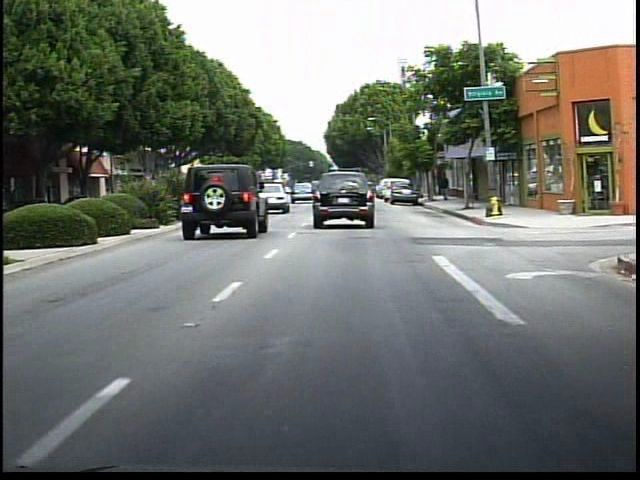person: (436, 168, 456, 204)
